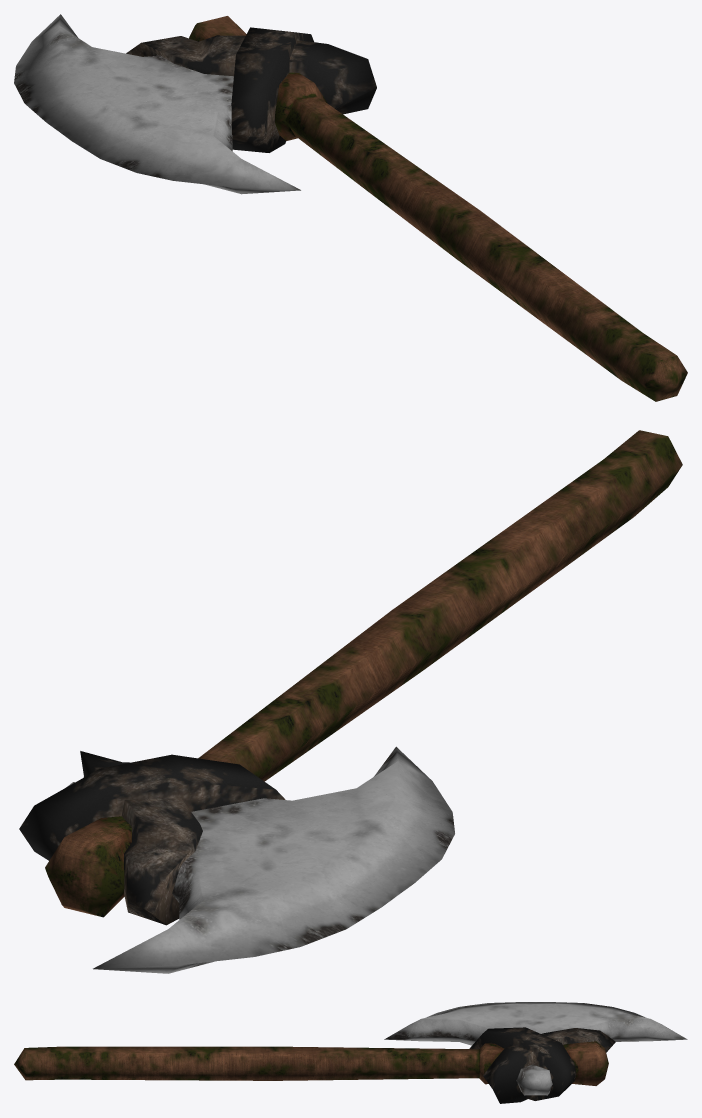
The picture shows the model from 3 angles, top to bottom: view 1: azimuth 30°, elevation 25°; view 2: azimuth 150°, elevation 25°; view 3: azimuth 270°, elevation 25°; orthographic projection. The views are drawn at different scales.
Visible parts, largest first — view 1: axe_1; view 2: axe_1; view 3: axe_1.
Boxes of the visible parts, x1,y1,x2,y2 form: axe_1: (14, 14, 687, 401); axe_1: (19, 430, 682, 973); axe_1: (14, 1002, 687, 1103).
Bounding box in the file's own units: 36.49 × 11 × 119.
Materials: 1 (1 with a texture image).
